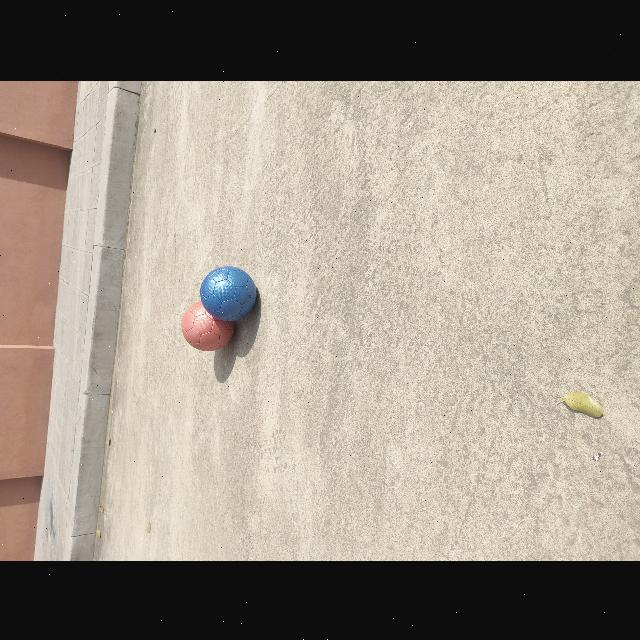B: (200, 264, 257, 321)
R: (182, 300, 234, 350)
